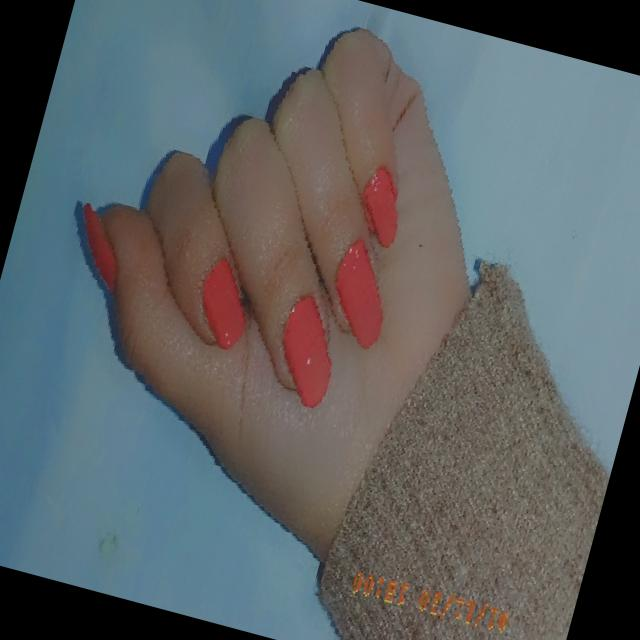Nail: (282, 294, 330, 406), (335, 238, 382, 347), (202, 258, 245, 348), (83, 203, 115, 291), (364, 170, 397, 246)
